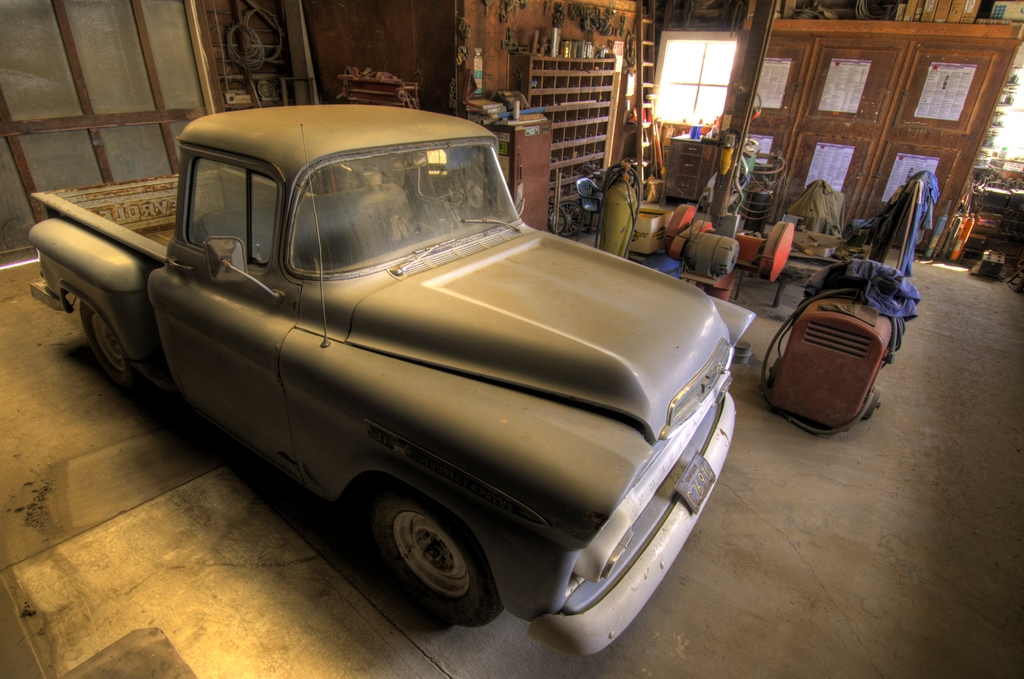Car: (71, 100, 764, 652)
